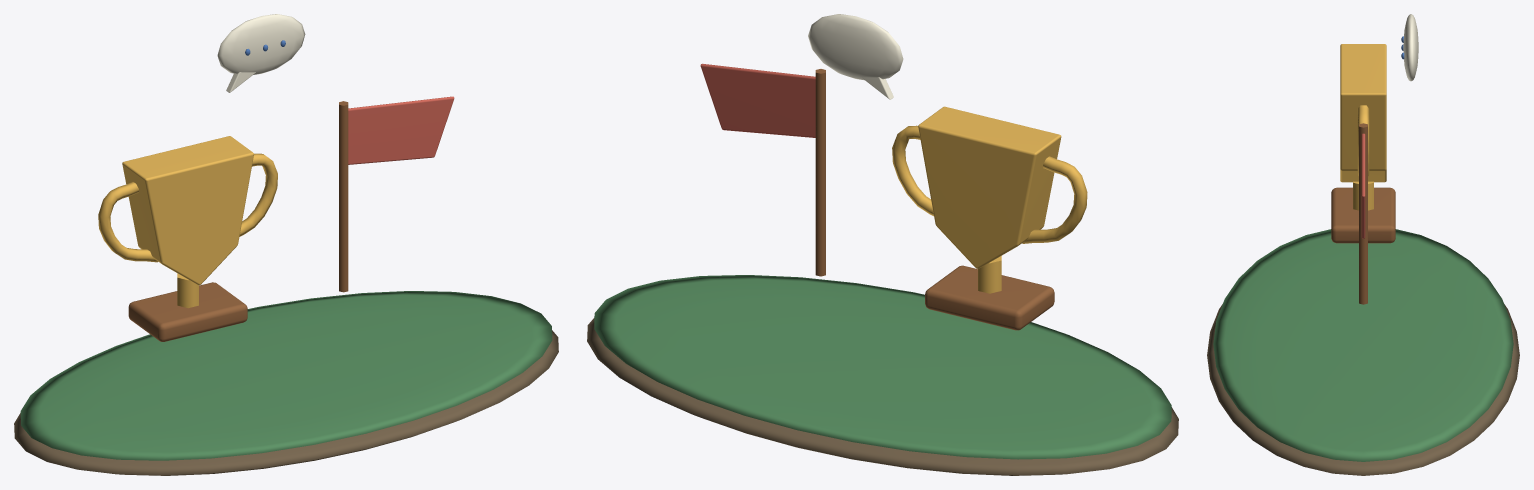
File: complete-third-displayed-fluttering-prize.glb
3 renders of one model, left to right at view 1: azimuth 30°, elevation 25°; view 2: azimuth 150°, elevation 25°; view 3: azimuth 270°, elevation 25°, orthographic. The views are drawn at different scales.
Parts seen in each view (by area): view 1: complete-third-displayed-fluttering-prize_surface_01, complete-third-displayed-fluttering-prize_surface_02, complete-third-displayed-fluttering-prize_surface_00, complete-third-displayed-fluttering-prize_surface_03, complete-third-displayed-fluttering-prize_surface_04, complete-third-displayed-fluttering-prize_surface_05; view 2: complete-third-displayed-fluttering-prize_surface_01, complete-third-displayed-fluttering-prize_surface_02, complete-third-displayed-fluttering-prize_surface_00, complete-third-displayed-fluttering-prize_surface_03, complete-third-displayed-fluttering-prize_surface_04, complete-third-displayed-fluttering-prize_surface_05; view 3: complete-third-displayed-fluttering-prize_surface_01, complete-third-displayed-fluttering-prize_surface_02, complete-third-displayed-fluttering-prize_surface_00, complete-third-displayed-fluttering-prize_surface_03, complete-third-displayed-fluttering-prize_surface_05, complete-third-displayed-fluttering-prize_surface_04.
Part boxes in pixels (left/top/right/bottom): complete-third-displayed-fluttering-prize_surface_01: left=20, top=291, right=552, bottom=460; complete-third-displayed-fluttering-prize_surface_02: left=98, top=136, right=277, bottom=308; complete-third-displayed-fluttering-prize_surface_00: left=14, top=330, right=558, bottom=475; complete-third-displayed-fluttering-prize_surface_03: left=128, top=101, right=348, bottom=341; complete-third-displayed-fluttering-prize_surface_04: left=348, top=96, right=454, bottom=164; complete-third-displayed-fluttering-prize_surface_05: left=217, top=14, right=305, bottom=92; complete-third-displayed-fluttering-prize_surface_01: left=594, top=275, right=1171, bottom=459; complete-third-displayed-fluttering-prize_surface_02: left=892, top=106, right=1087, bottom=293; complete-third-displayed-fluttering-prize_surface_00: left=587, top=318, right=1178, bottom=475; complete-third-displayed-fluttering-prize_surface_03: left=815, top=69, right=1054, bottom=330; complete-third-displayed-fluttering-prize_surface_04: left=700, top=63, right=815, bottom=137; complete-third-displayed-fluttering-prize_surface_05: left=808, top=14, right=903, bottom=99; complete-third-displayed-fluttering-prize_surface_01: left=1213, top=229, right=1513, bottom=461; complete-third-displayed-fluttering-prize_surface_02: left=1340, top=44, right=1386, bottom=210; complete-third-displayed-fluttering-prize_surface_00: left=1207, top=304, right=1519, bottom=475; complete-third-displayed-fluttering-prize_surface_03: left=1331, top=123, right=1395, bottom=304; complete-third-displayed-fluttering-prize_surface_05: left=1403, top=14, right=1418, bottom=81; complete-third-displayed-fluttering-prize_surface_04: left=1361, top=133, right=1365, bottom=238.
Bounding box in the file's own units: 4.56 × 3.08 × 2.5.
